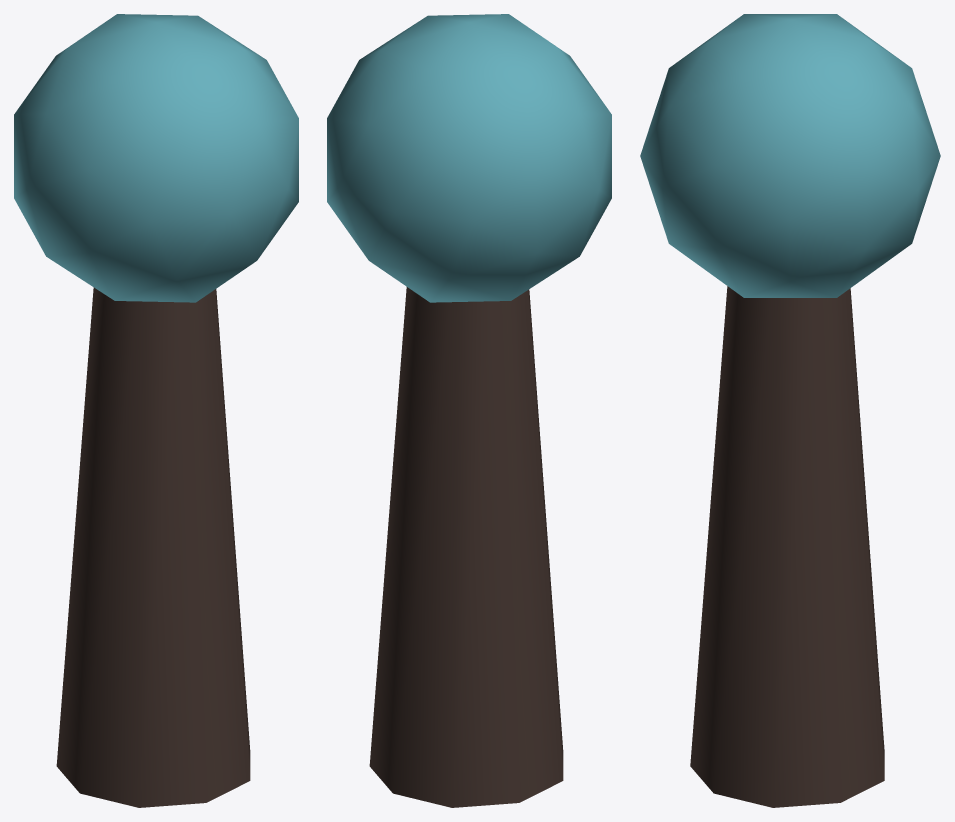
File: lamp.glb
3 views of the same model, side by side, from view 1: azimuth 30°, elevation 25°; view 2: azimuth 150°, elevation 25°; view 3: azimuth 270°, elevation 25° (orthographic).
Parts seen in each view (by area): view 1: lamp_stand, lamp_focus; view 2: lamp_stand, lamp_focus; view 3: lamp_stand, lamp_focus.
Boxes of the visible parts, x1,y1,x2,y2 form: lamp_stand: (56,287,250,807); lamp_focus: (14,14,298,302); lamp_stand: (369,287,563,807); lamp_focus: (327,14,611,302); lamp_stand: (690,286,884,807); lamp_focus: (640,14,940,297).
Size of what is drawn, in the model's own units: 0.96 by 2.63 by 0.96.
